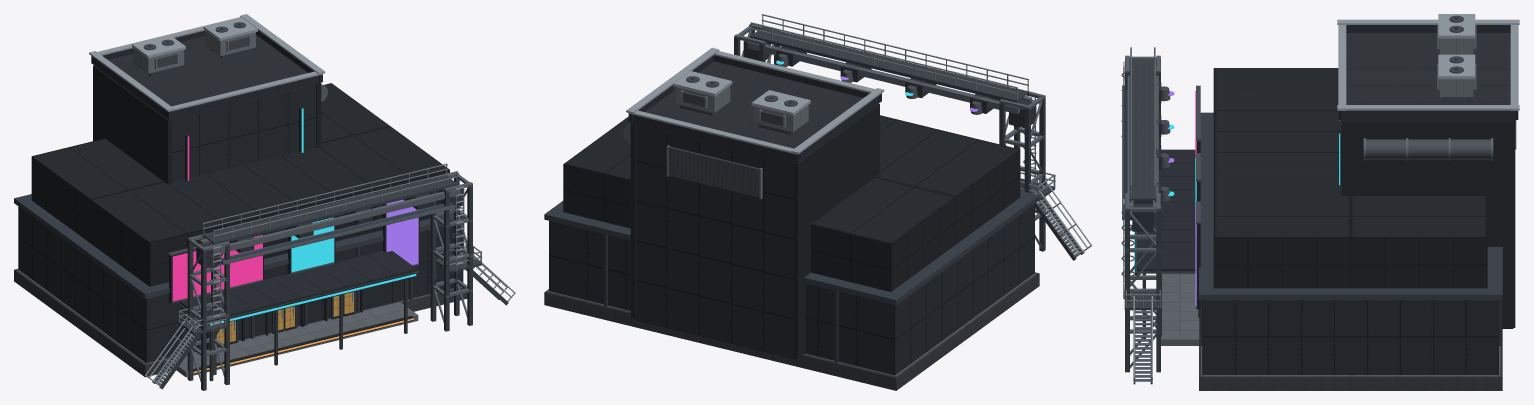
File: trg-3-built.glb
3 renders of one model, left to right at view 1: azimuth 30°, elevation 25°; view 2: azimuth 150°, elevation 25°; view 3: azimuth 270°, elevation 25°, orthographic. The views are drawn at different scales.
Bounding box in the file's own units: 34.38 × 20.07 × 28.19.
36 materials, 23 textured.
